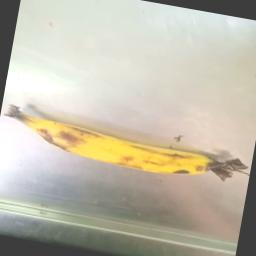Banana Unripe: (0, 86, 253, 207)
